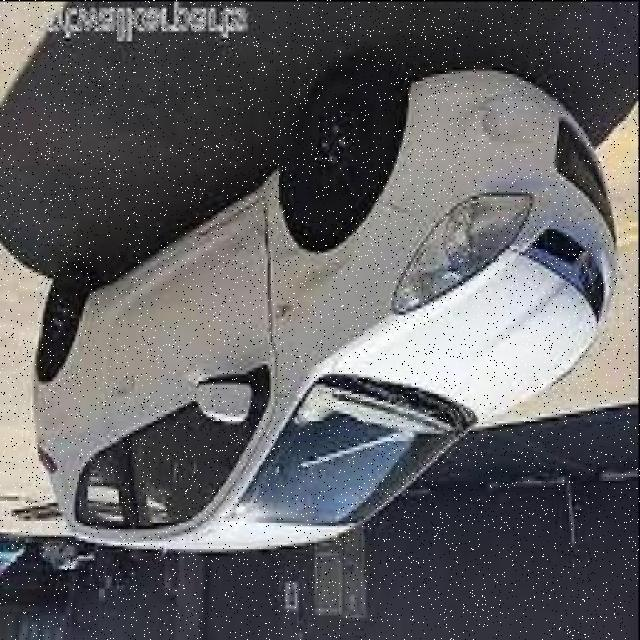damage: (184, 169, 407, 311)
